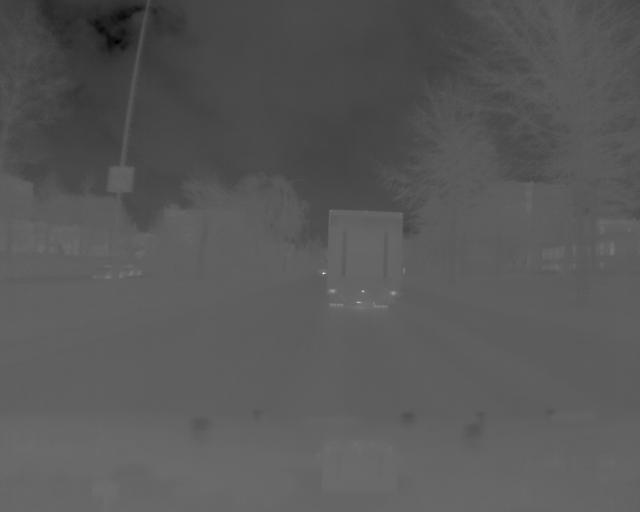car: (324, 208, 407, 314)
